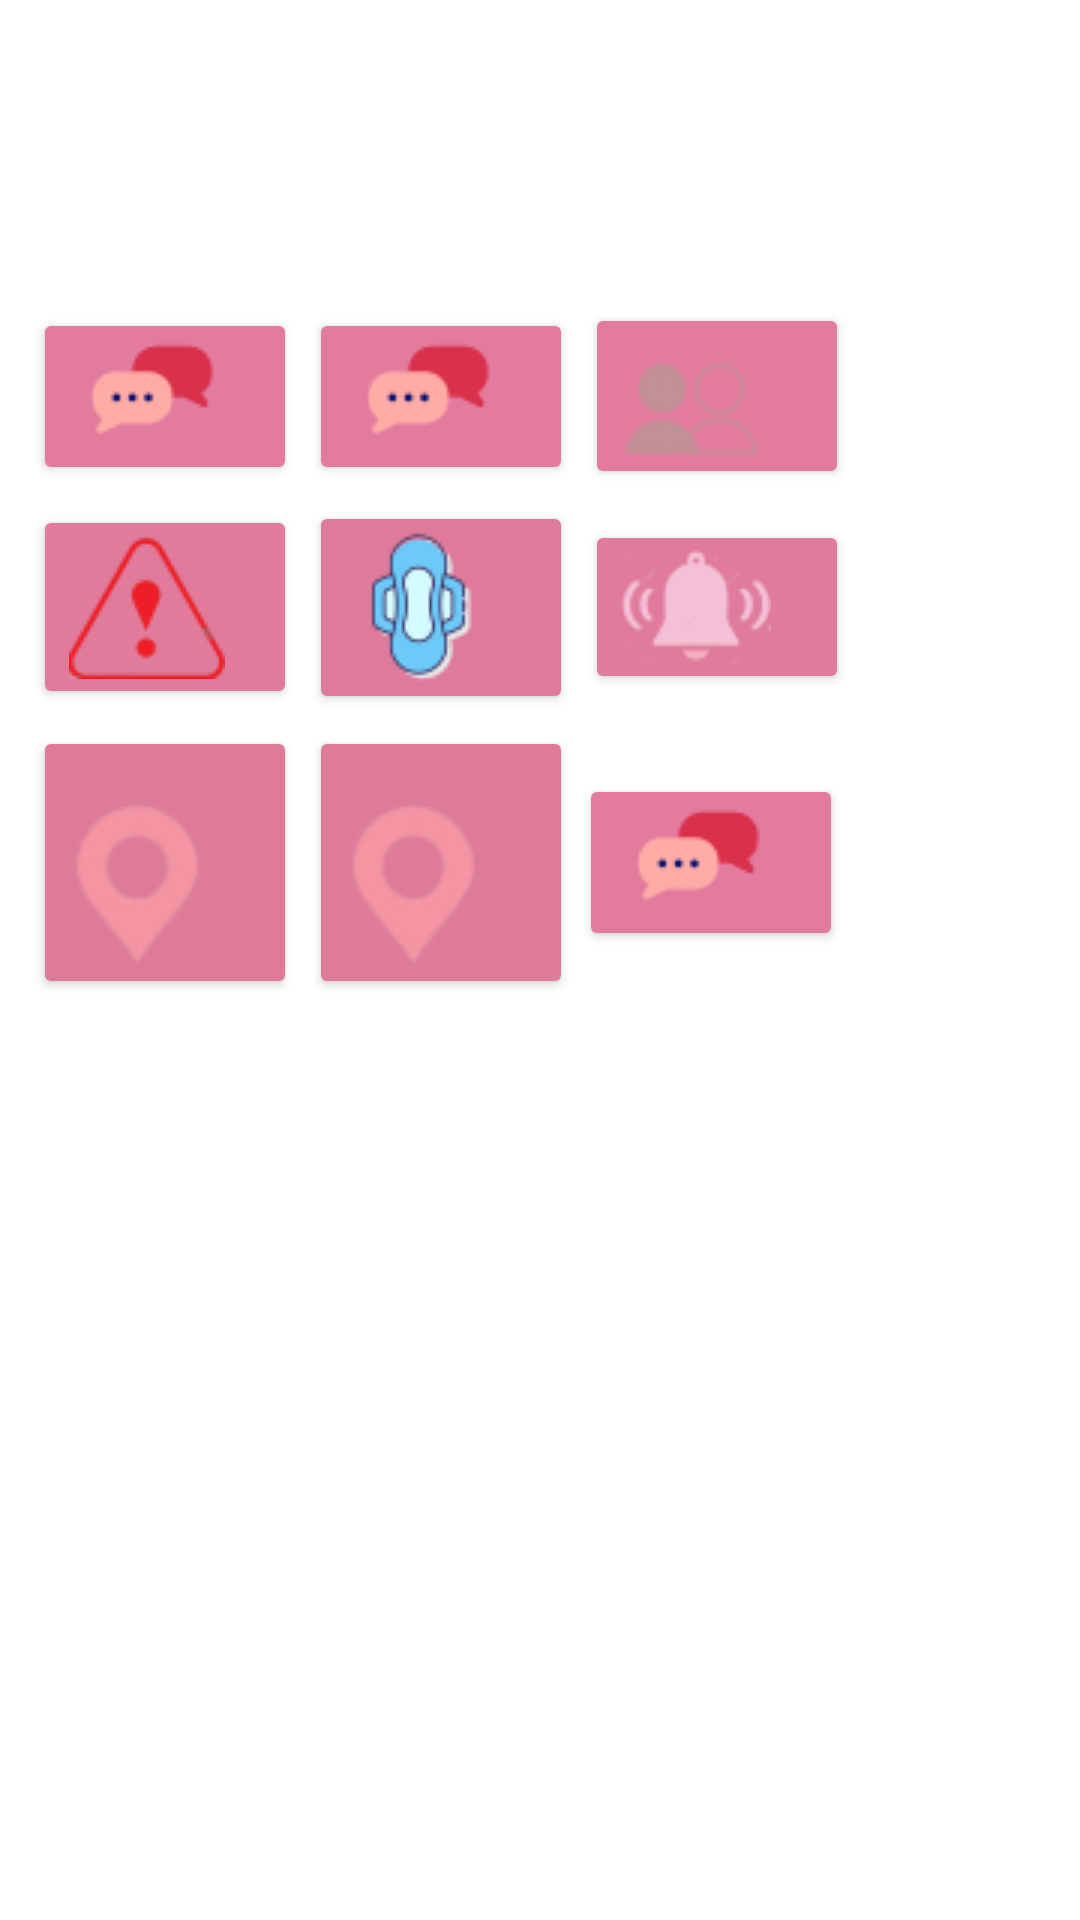

Named icons in this screenshot (1080×1920) and their bounding boxes, region(x1, y1, x2, y2):
noun hospital map: region(44, 744, 285, 983)
